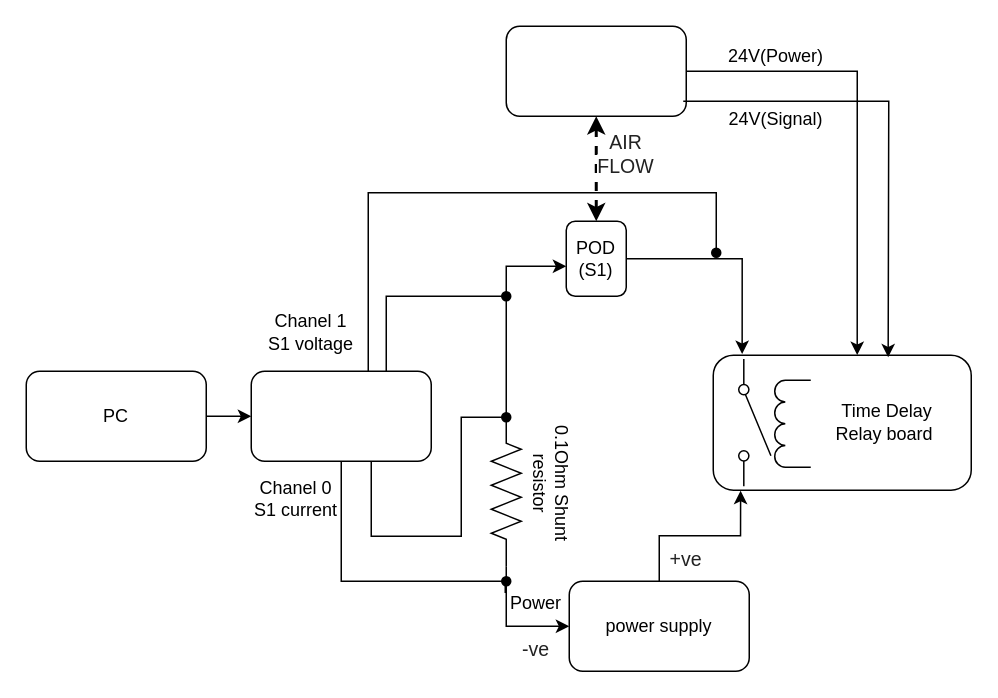
Some shapes in this 998 by 698 pixel diagram are drawn without their labels. Each missing label, with the box of its shape:
IN USB 6003 Data collection: (250, 370, 431, 461)
Puff Machine: (505, 25, 686, 116)
